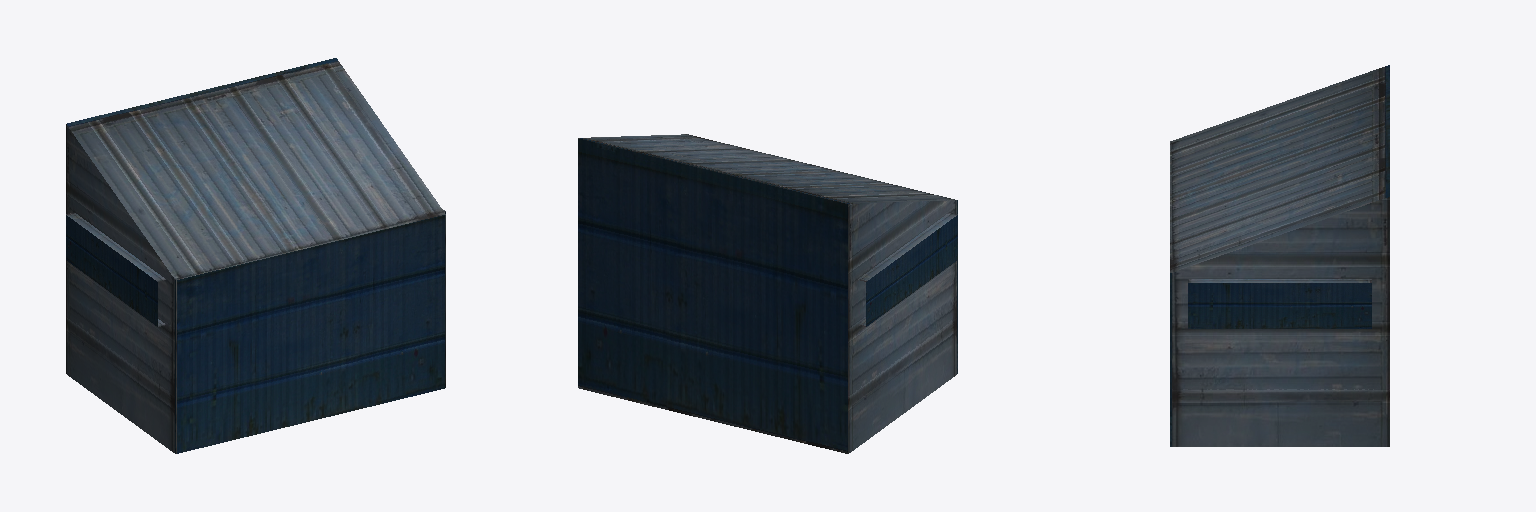
3 renders of one model, left to right at view 1: azimuth 30°, elevation 25°; view 2: azimuth 150°, elevation 25°; view 3: azimuth 270°, elevation 25°, orthographic.
Parts seen in each view (by area): view 1: dumpster_1; view 2: dumpster_1; view 3: dumpster_1.
Boxes of the visible parts, x1,y1,x2,y2 form: dumpster_1: [66, 58, 445, 453]; dumpster_1: [578, 134, 957, 453]; dumpster_1: [1170, 65, 1389, 446].
Bounding box in the file's own units: 1.83 × 1.52 × 1.21.
Materials: 1 (1 with a texture image).